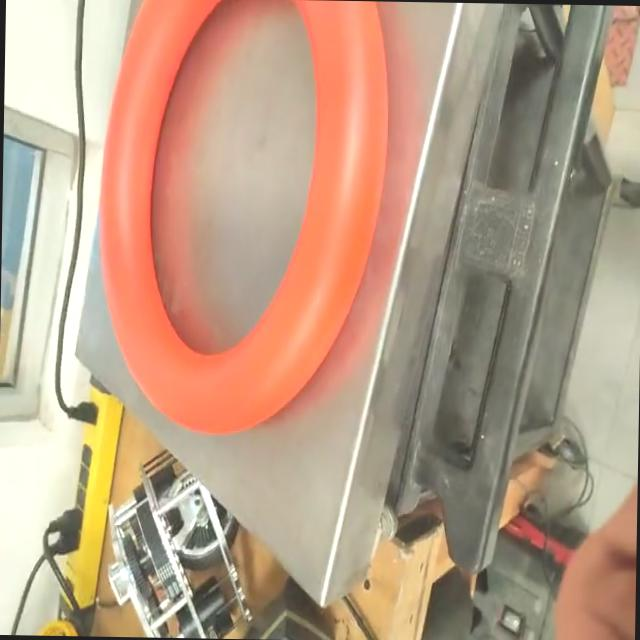note: (89, 0, 397, 444)
